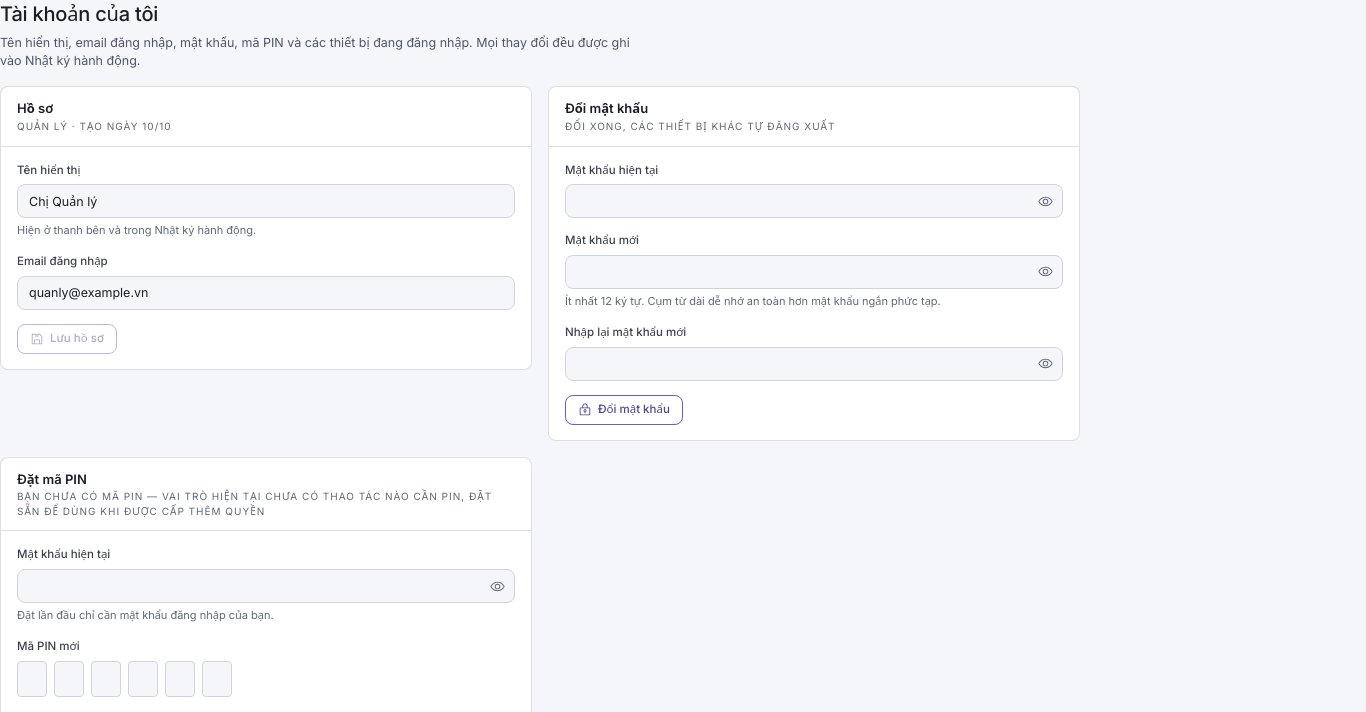
Test case: Tài khoản của tôi — đặt mã PIN lần đầu › chưa có PIN → hiện thẻ "Đặt mã PIN"; đặt xong thẻ đổi thành "Đổi mã PIN"
The width and height of the screenshot is (1366, 712).
Expected: the text "Đặt mã PIN" is shown, [17,470,87,486]
Expected: the text "Đổi mã PIN" is not shown
Type "mat-khau-dang-nhap" into the 2nd password field labelled "Mật khẩu hiện tại". click: (266, 586)
box: [17,569,515,603]
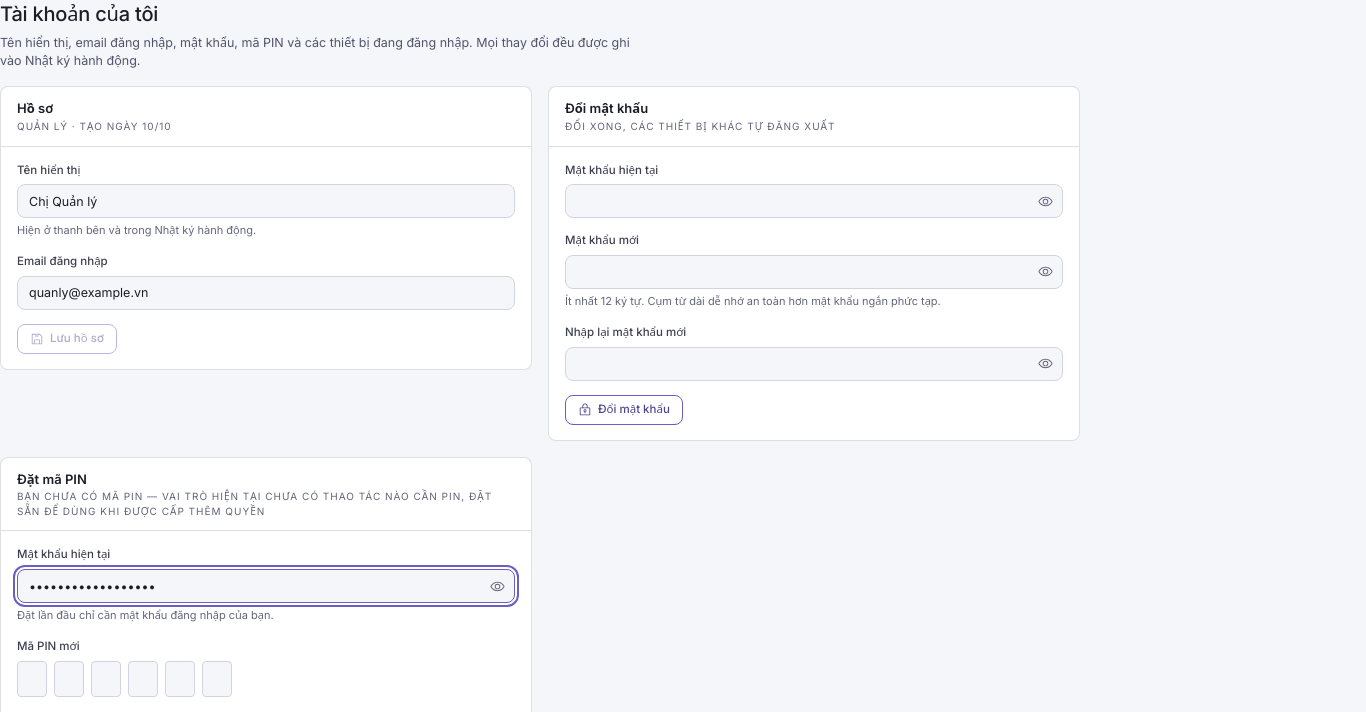
Click the password field named "Mã PIN mới — chữ số 1/6". click: (32, 679)
box: [17,661,47,697]
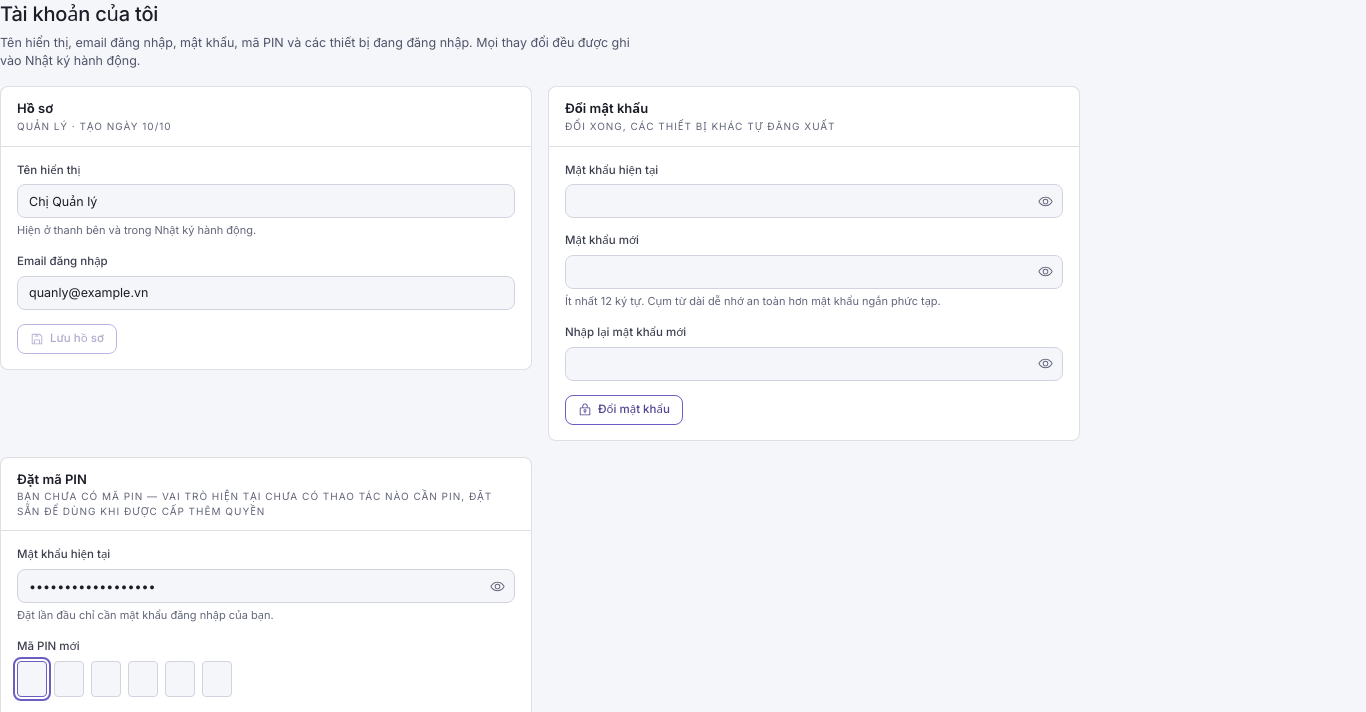
Type keys "135790"
(page scrolled)
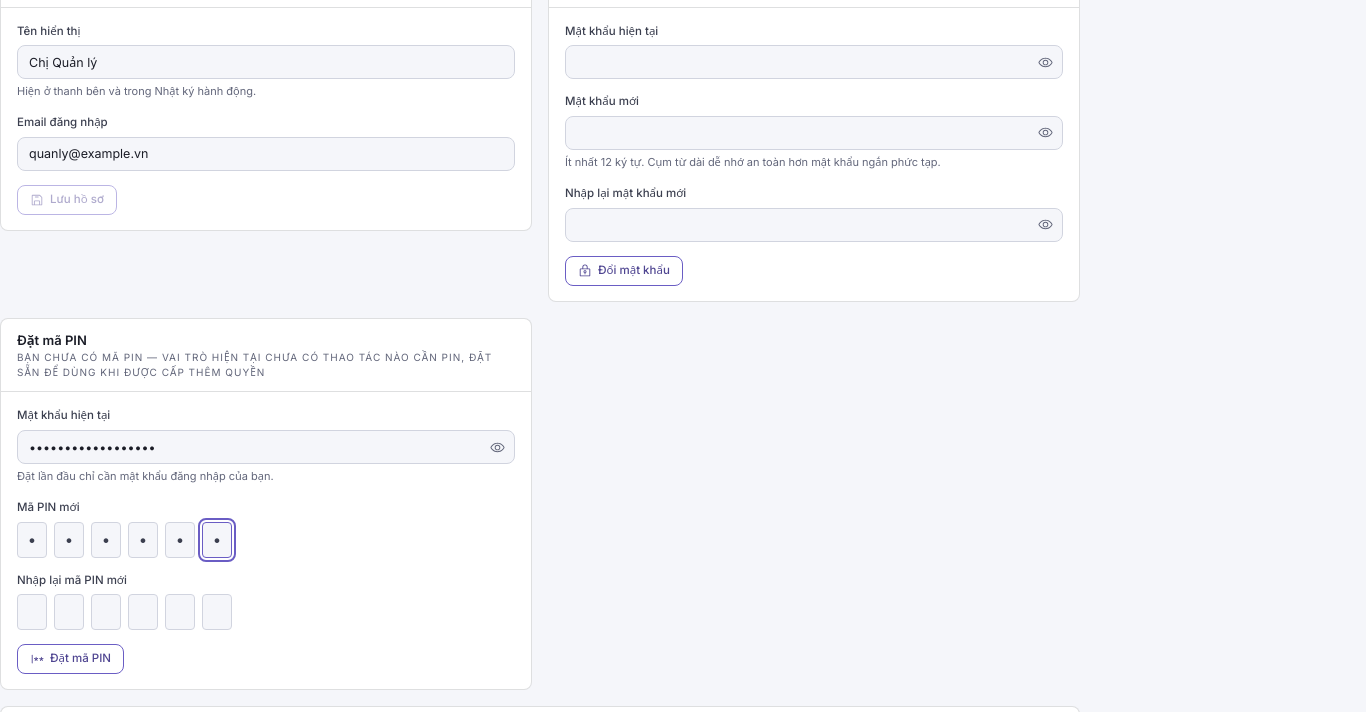
Click the password field named "Nhập lại mã PIN mới — chữ số 1/6". click: (32, 612)
box: [17,594,47,630]
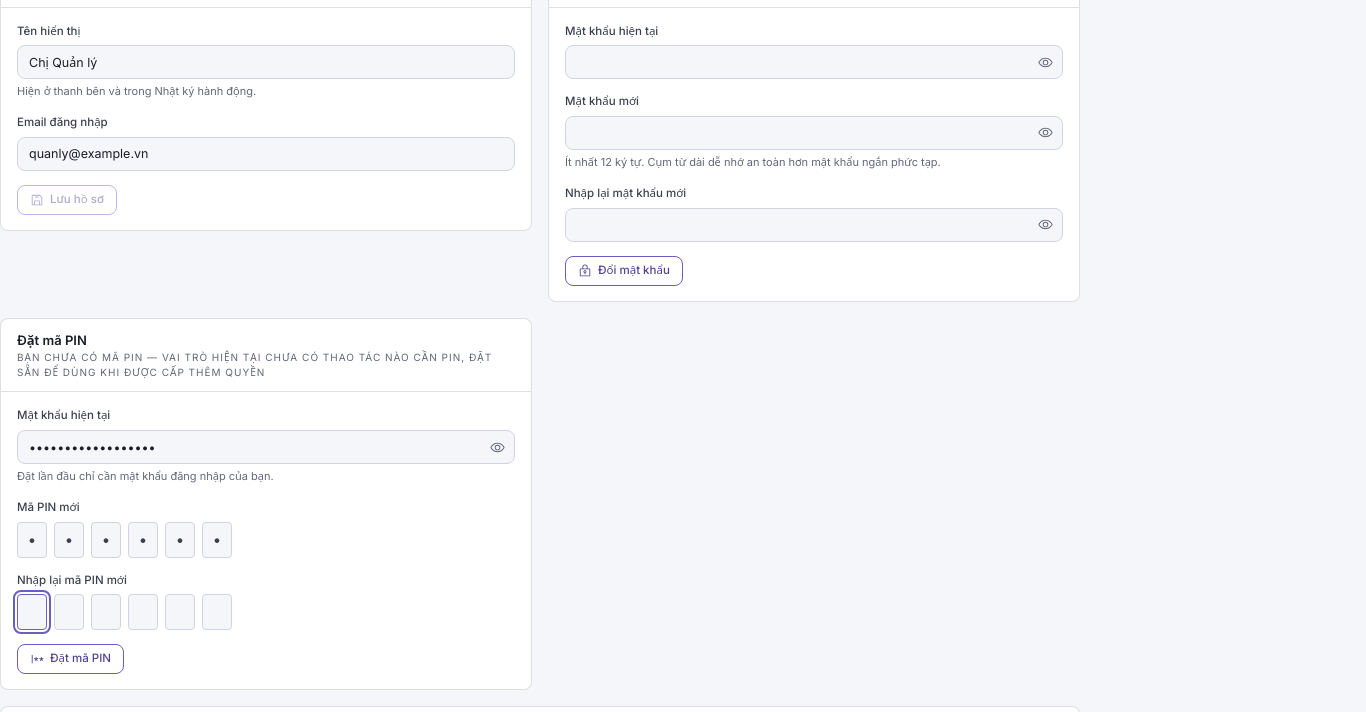
Type keys "135790"
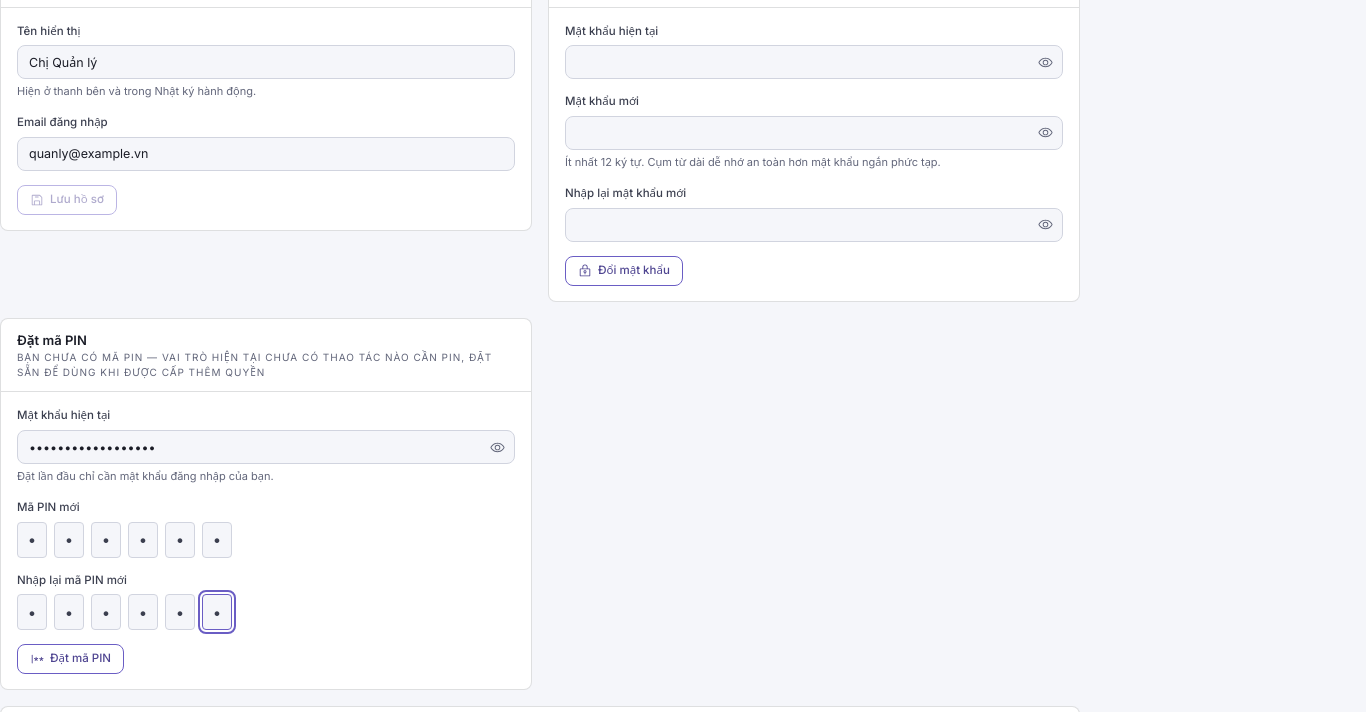
Click the button "Đặt mã PIN". click: (70, 659)
box: [17,644,124,674]
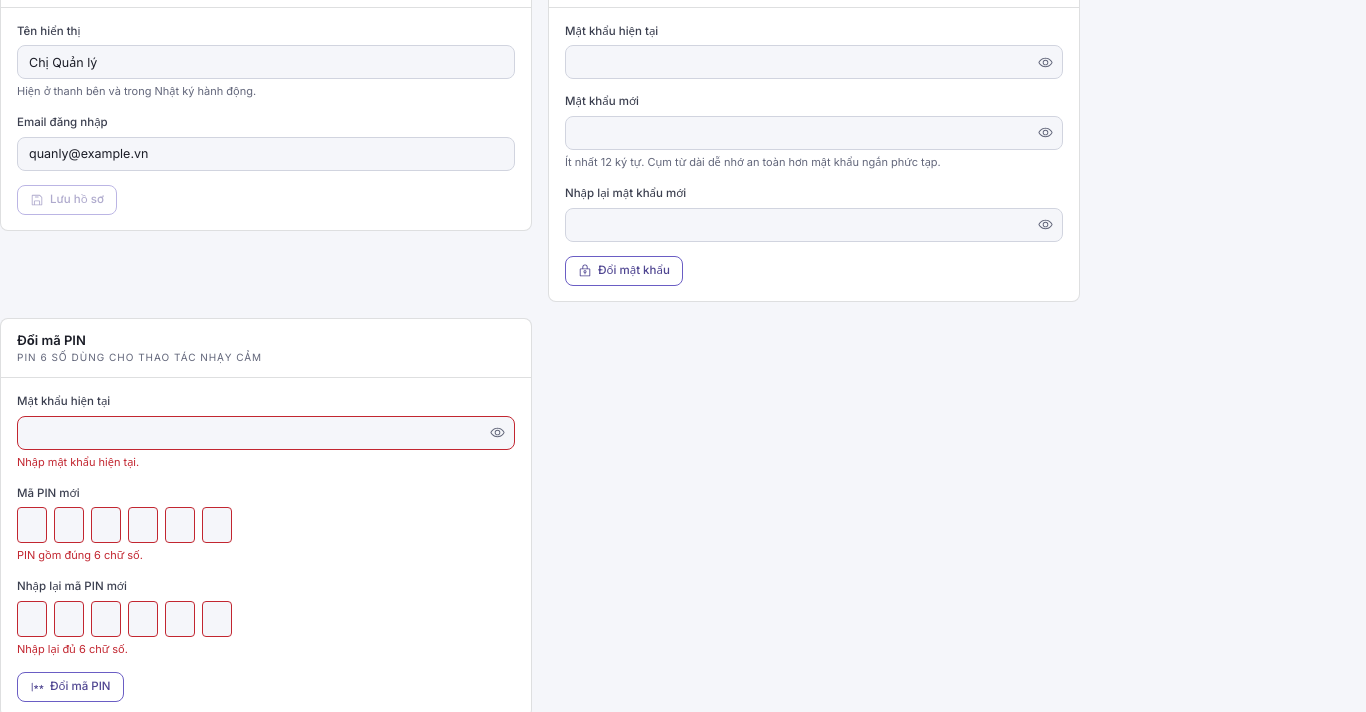
Now the text "Đổi mã PIN" is shown, box [17,332,86,348]
Now the text "Đặt mã PIN" is gone
